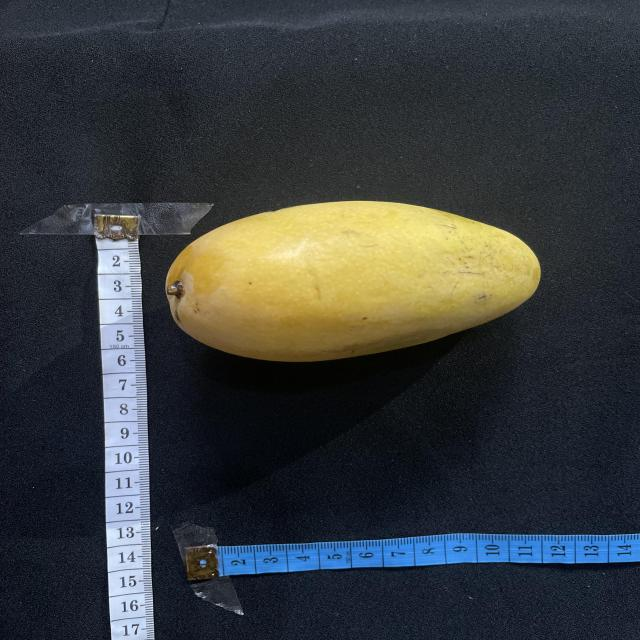Ripe: (166, 201, 540, 362)
